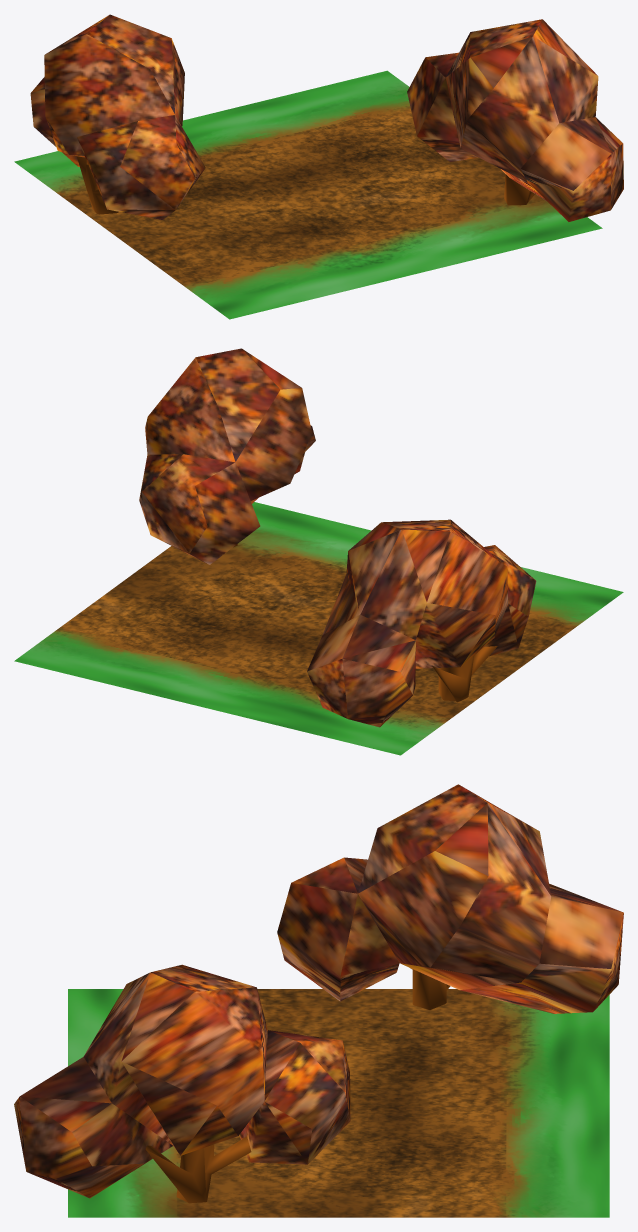
Rendered from StraightTile.fbx.
The picture shows the model from 3 angles, top to bottom: view 1: azimuth 30°, elevation 25°; view 2: azimuth 150°, elevation 25°; view 3: azimuth 270°, elevation 25°; orthographic projection. The views are drawn at different scales.
Parts seen in each view (by area): view 1: Plane; view 2: Plane; view 3: Plane.
Part boxes in pixels (box(x1,y1,x2,y2)): Plane: box(14, 14, 623, 319); Plane: box(14, 348, 623, 755); Plane: box(14, 784, 623, 1217).
Bounding box in the file's own units: 232 × 93.98 × 225.
1 material, 1 textured.
